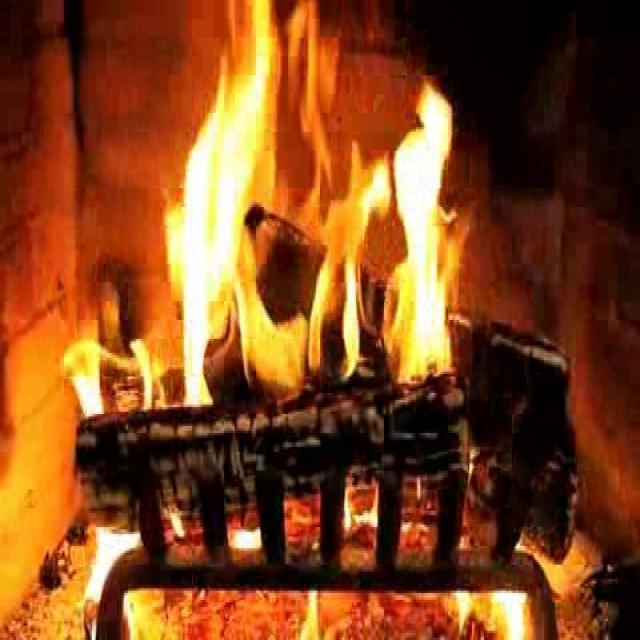Fire: (155, 18, 477, 426)
